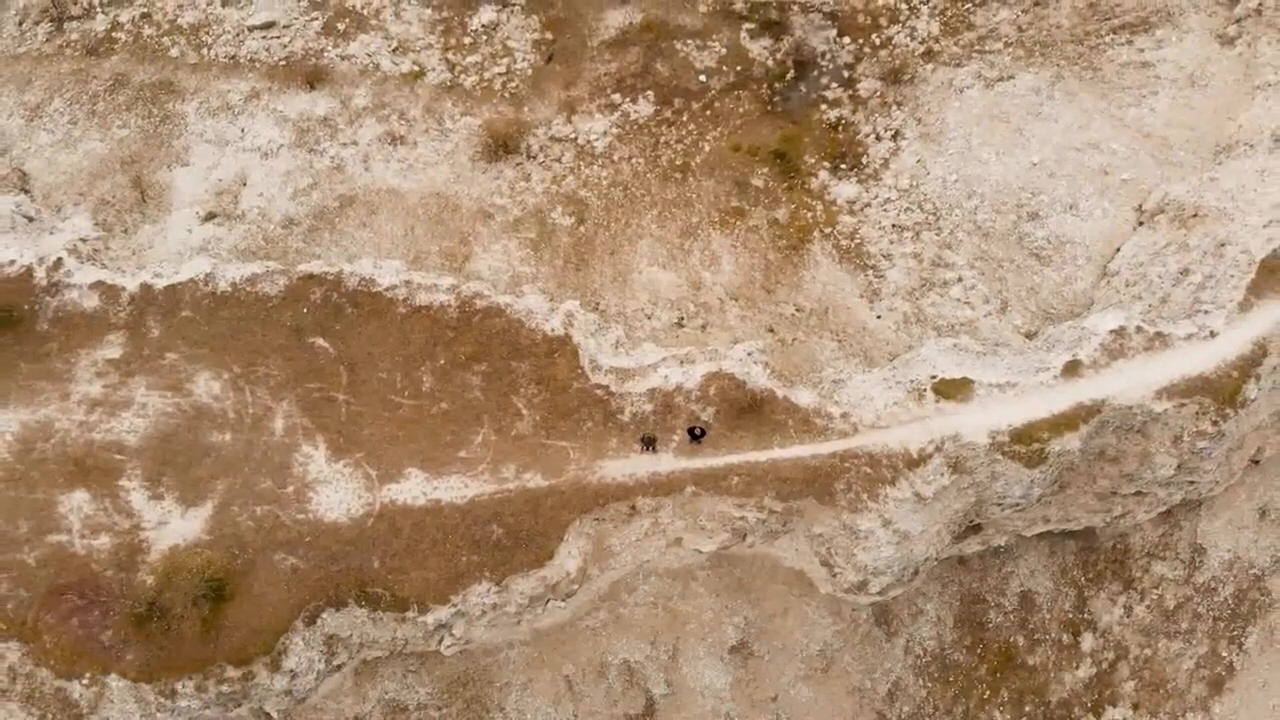insan: (682, 422, 707, 445), (639, 431, 660, 452)
